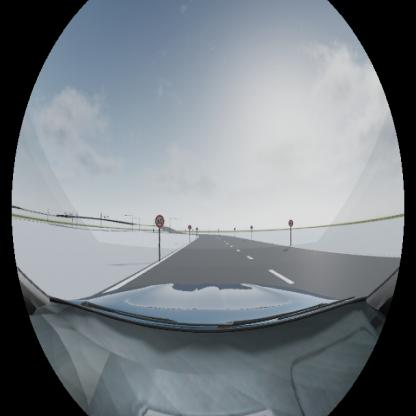Speed Limit 60: (155, 214, 164, 228)
